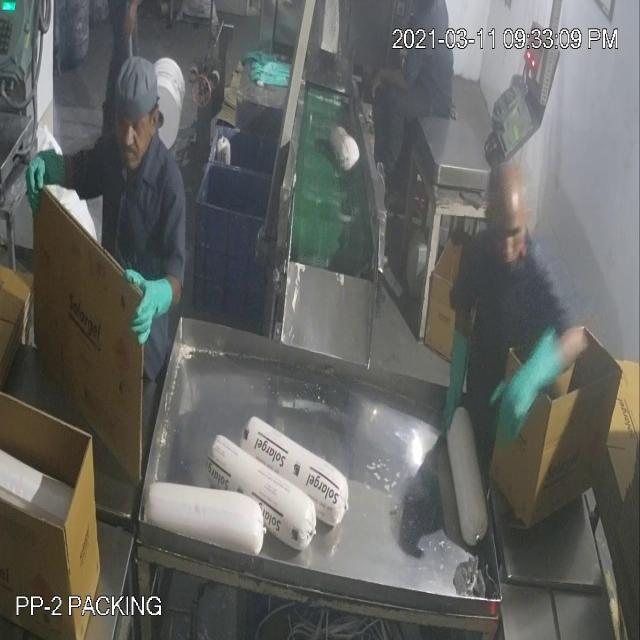gloves: (485, 326, 571, 462), (116, 240, 192, 348), (432, 326, 482, 438)
no-gloves: (358, 52, 412, 110)
